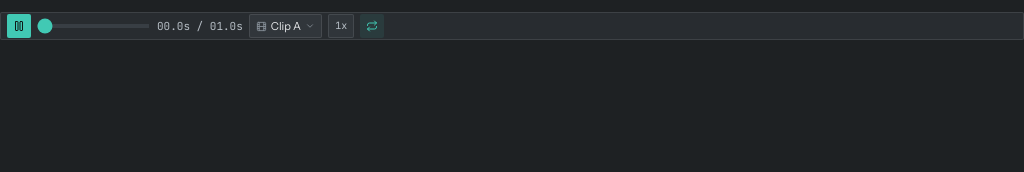
Test: glTF Animation Playback & Controls System › AnimationControlsItem Component Rendering & UI › renders multi-clip selector dropdown when more than 1 clip is present
The width and height of the screenshot is (1024, 172).
Click to open dropdown
Click the button titled "Select animation" at x=285, y=26, box [249, 14, 322, 38]
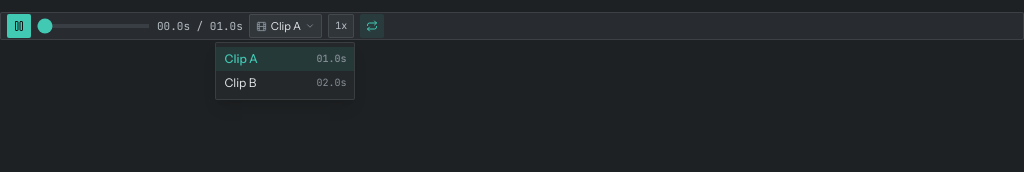
Result: the text "Clip B" is shown at [224, 75, 256, 91]
